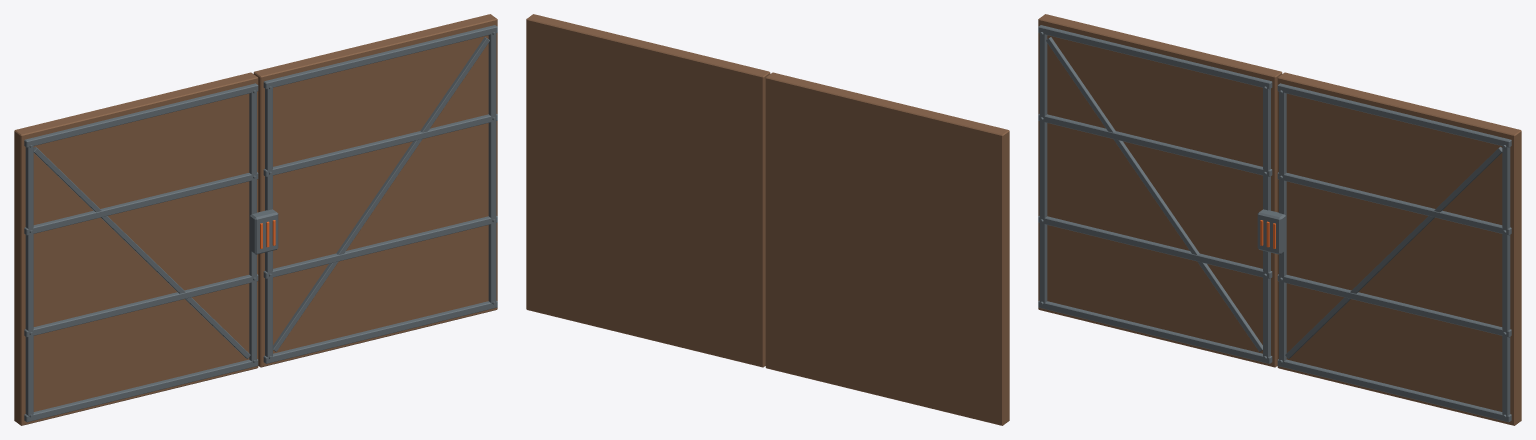
File: SM_DoorPanel_03.fbx
3 views of the same model, side by side, from view 1: azimuth 30°, elevation 25°; view 2: azimuth 150°, elevation 25°; view 3: azimuth 330°, elevation 25° (orthographic).
Parts seen in each view (by area): view 1: SM_DoorPanel_03; view 2: SM_DoorPanel_03; view 3: SM_DoorPanel_03.
Boxes of the visible parts, x1,y1,x2,y2 form: SM_DoorPanel_03: (14,14,497,425); SM_DoorPanel_03: (526,14,1009,425); SM_DoorPanel_03: (1038,14,1521,425).
Bounding box in the file's own units: 600 × 35 × 350.
